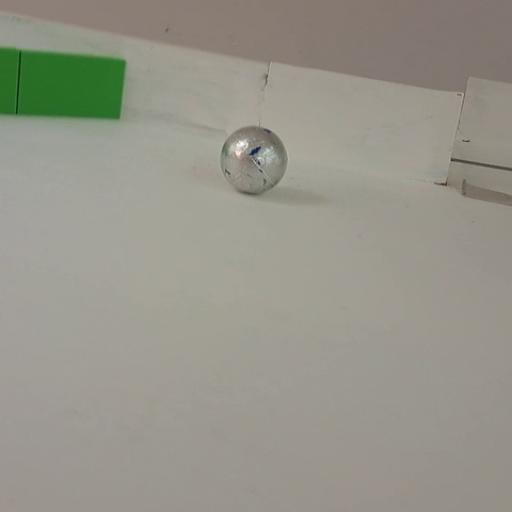alive: (218, 124, 288, 194)
